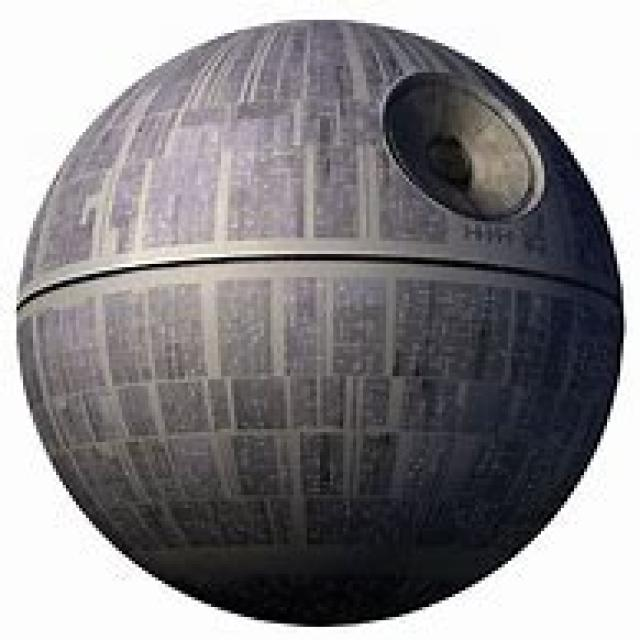Death Star: (13, 20, 617, 623)
